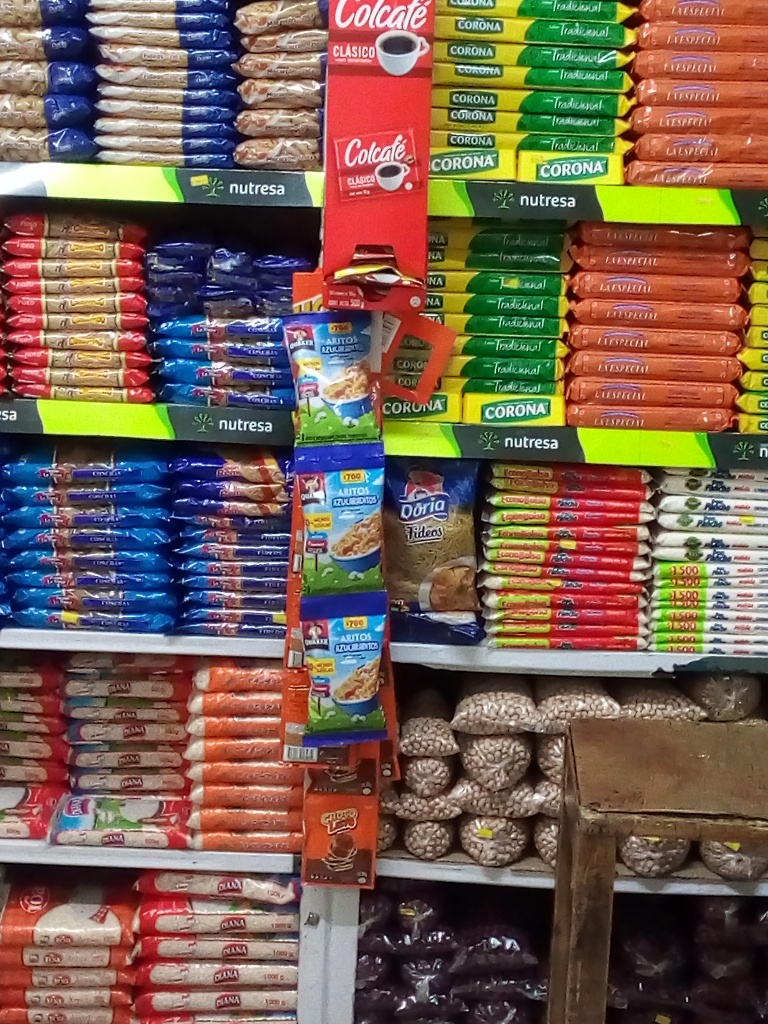COL0170103SOB02000: (305, 791, 376, 892)
